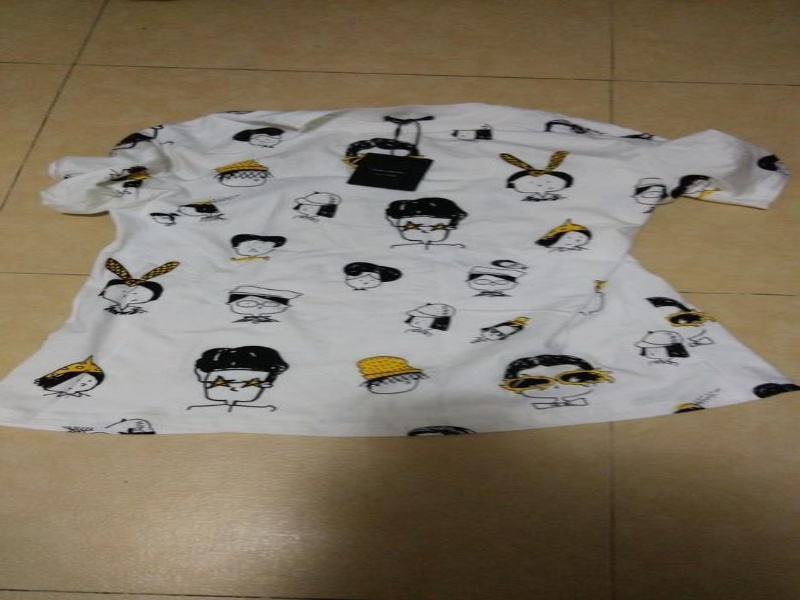short_sleeved_dress: (2, 100, 798, 441)
